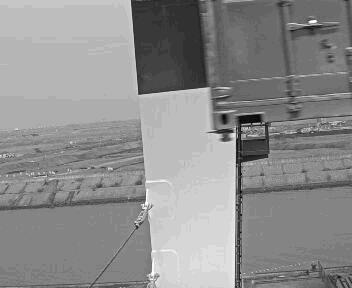twist_lock_1: (214, 125, 238, 144)
